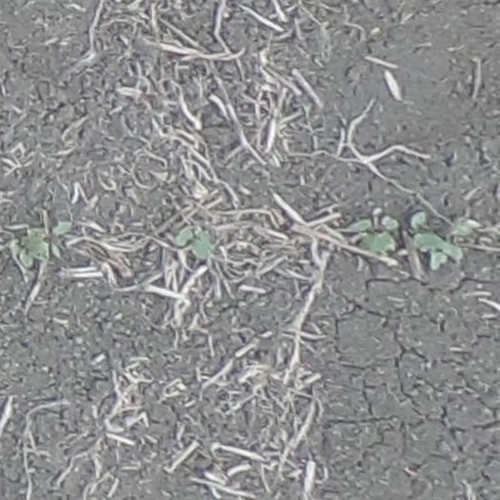isolated: (410, 212, 471, 272), (356, 215, 400, 254), (10, 228, 50, 269), (174, 225, 213, 259)
